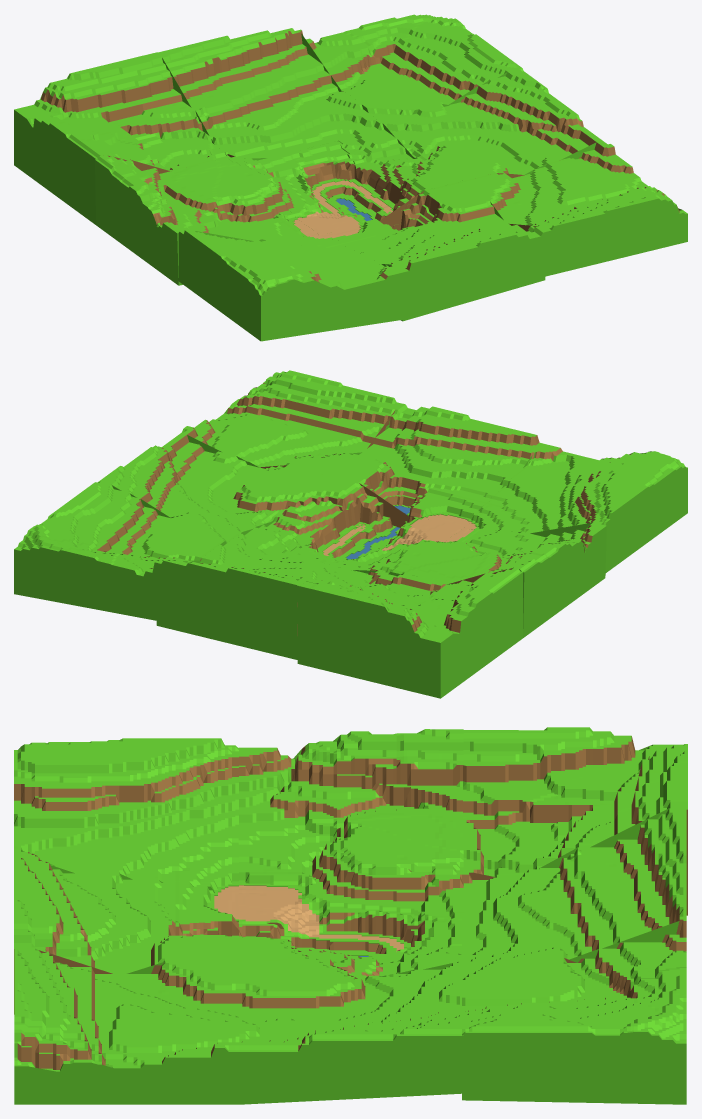
The model's file is Level One Valley Terrain Map Colored With Hills (fbx).fbx.
3 views of the same model, one above another, from view 1: azimuth 30°, elevation 25°; view 2: azimuth 150°, elevation 25°; view 3: azimuth 270°, elevation 25° (orthographic). The views are drawn at different scales.
Parts seen in each view (by area): view 1: Cube.001; view 2: Cube.001; view 3: Cube.001.
Boxes of the visible parts, box(x1,y1,x2,y2) form: Cube.001: box(14, 14, 687, 341); Cube.001: box(14, 370, 687, 698); Cube.001: box(14, 727, 687, 1104).
Bounding box in the file's own units: 18001 × 4003 × 17979.
